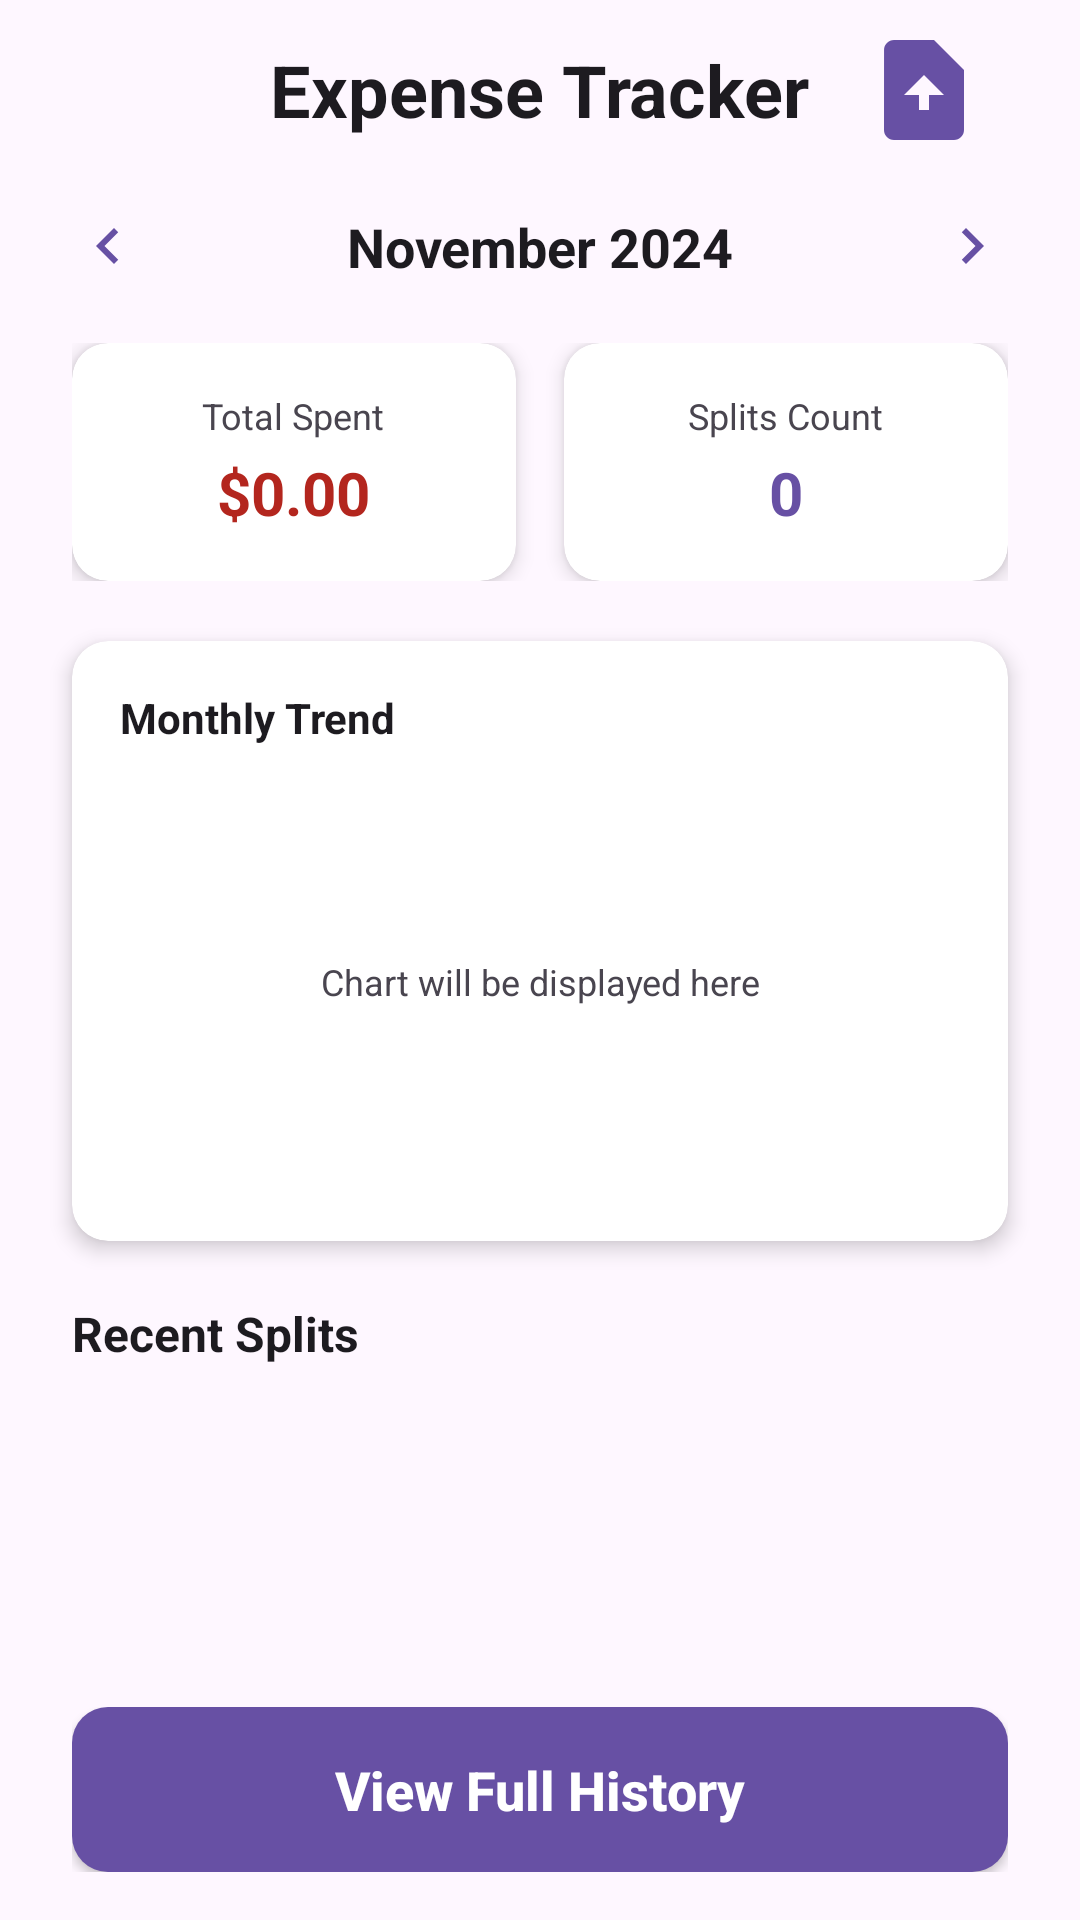

Locate icon controls on the screen. Image size 1080x1920, boxes as (x1,y1,x2,y2).
Export: (884,40,964,140)
Next: (962,228,984,264)
Previous: (96,228,118,264)
